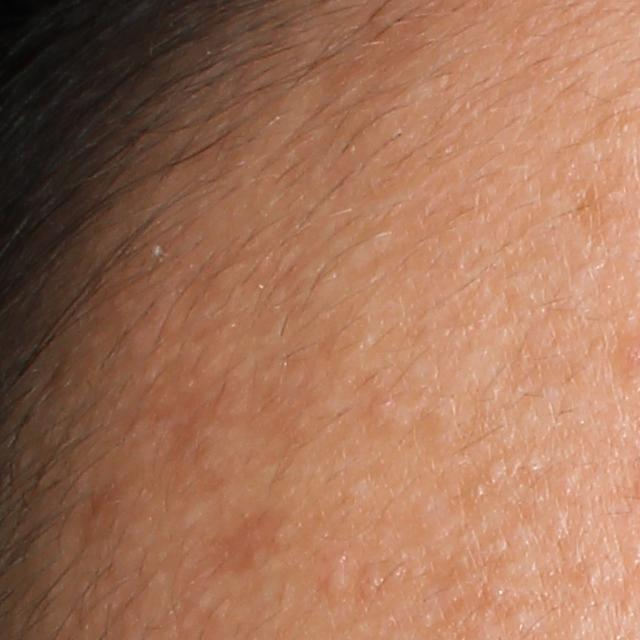comedo: (322, 569, 353, 607)
